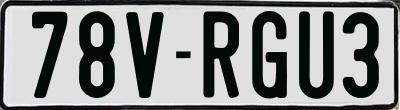3: (340, 9, 380, 95)
7: (29, 11, 67, 100)
8: (76, 11, 113, 99)
G: (249, 11, 285, 102)
R: (202, 9, 239, 99)
U: (296, 11, 335, 101)
V: (124, 9, 163, 100)
